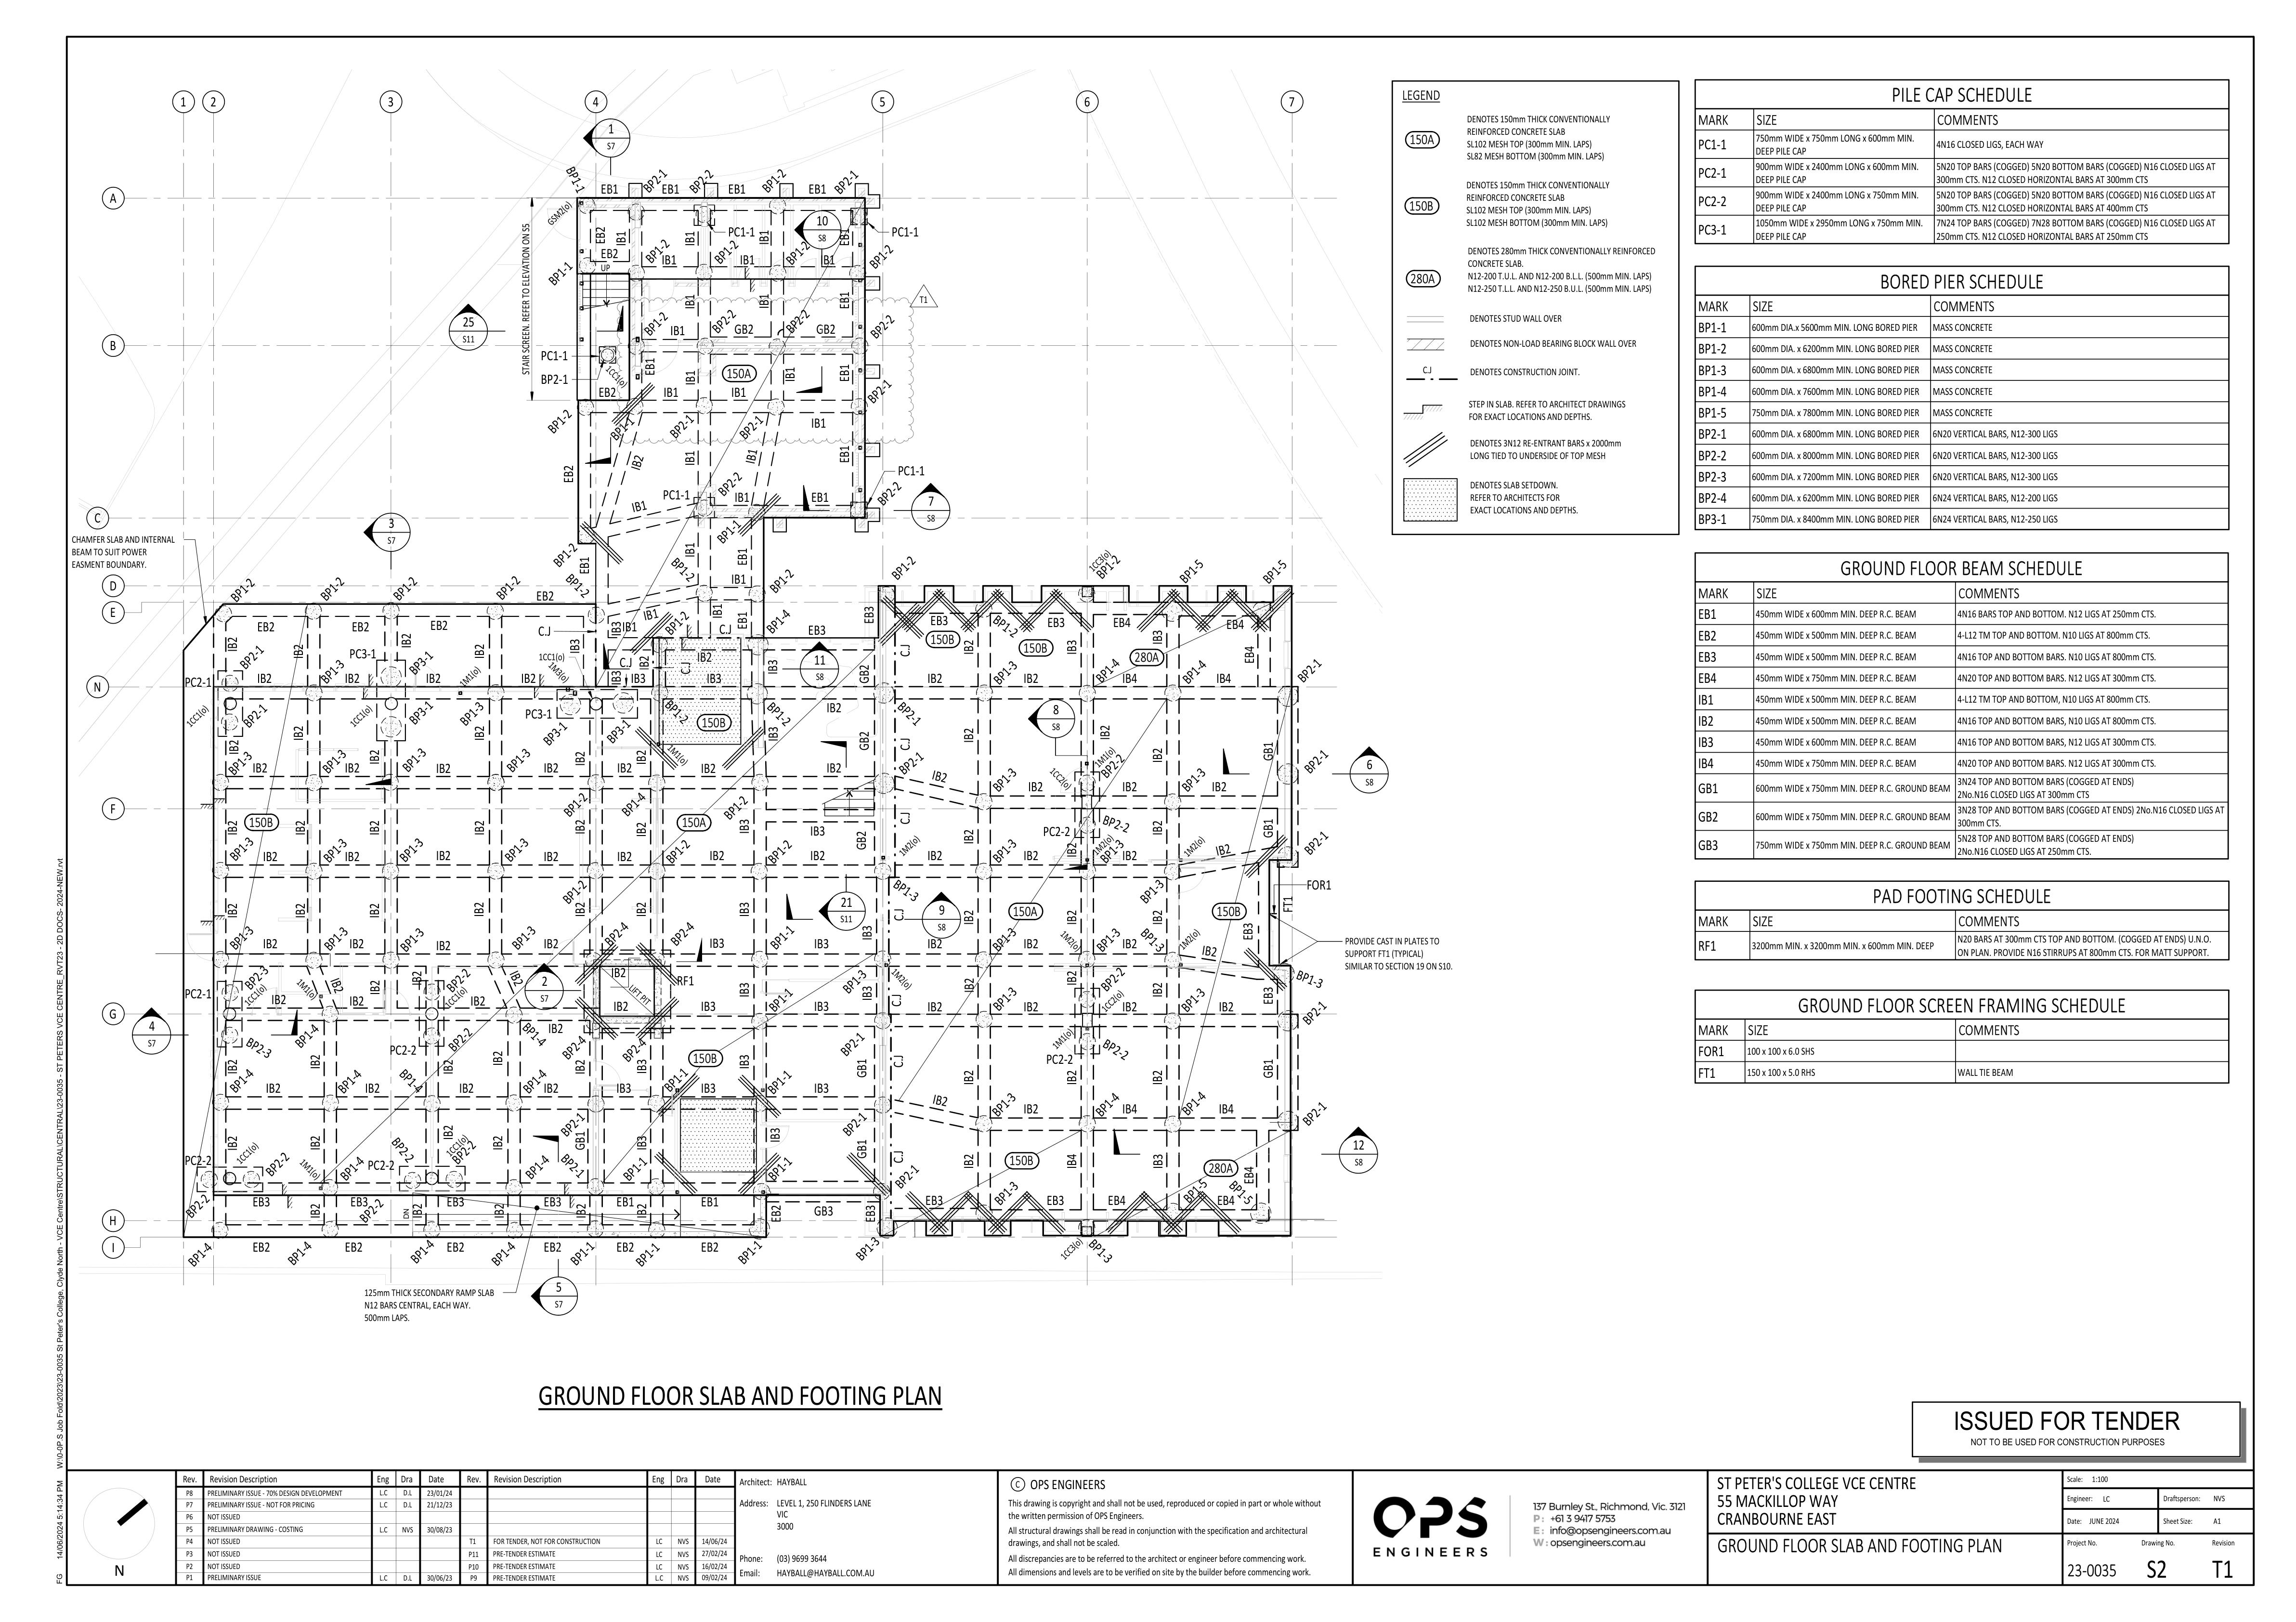BP1-1: (560, 158, 586, 197), (542, 256, 572, 286), (606, 418, 635, 439), (716, 520, 741, 544)
BP1-2: (886, 551, 922, 579), (667, 556, 700, 585), (544, 407, 574, 434), (869, 242, 895, 270), (642, 309, 669, 337), (758, 167, 786, 191), (641, 235, 665, 262), (785, 240, 809, 265), (713, 244, 739, 263)
BP2-1: (832, 167, 858, 193), (739, 414, 765, 441), (641, 167, 667, 191), (671, 414, 695, 437), (869, 383, 893, 402), (539, 372, 567, 388)
BP2-2: (778, 305, 813, 335), (709, 305, 735, 335), (871, 314, 899, 339), (718, 470, 744, 495), (879, 479, 904, 506), (688, 170, 713, 195)
EB2: (562, 460, 581, 486)
PC1-1: (890, 218, 923, 239), (895, 460, 930, 477), (655, 486, 693, 502), (537, 346, 570, 363), (725, 223, 758, 239)
